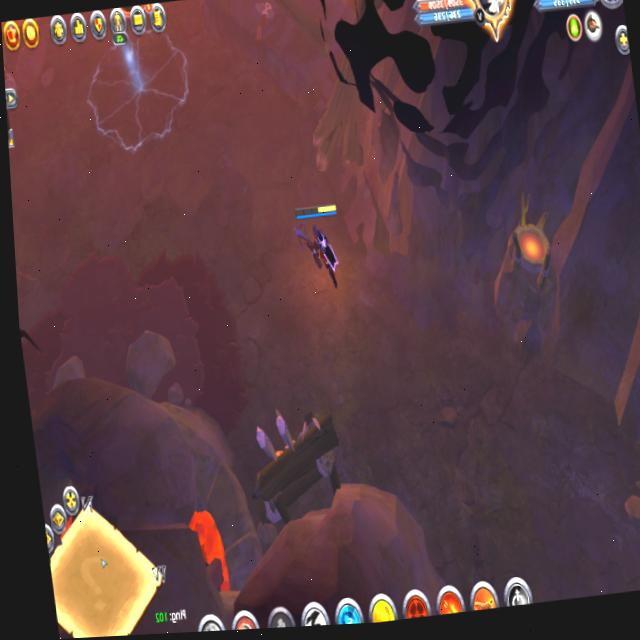red: (291, 197, 347, 298)
